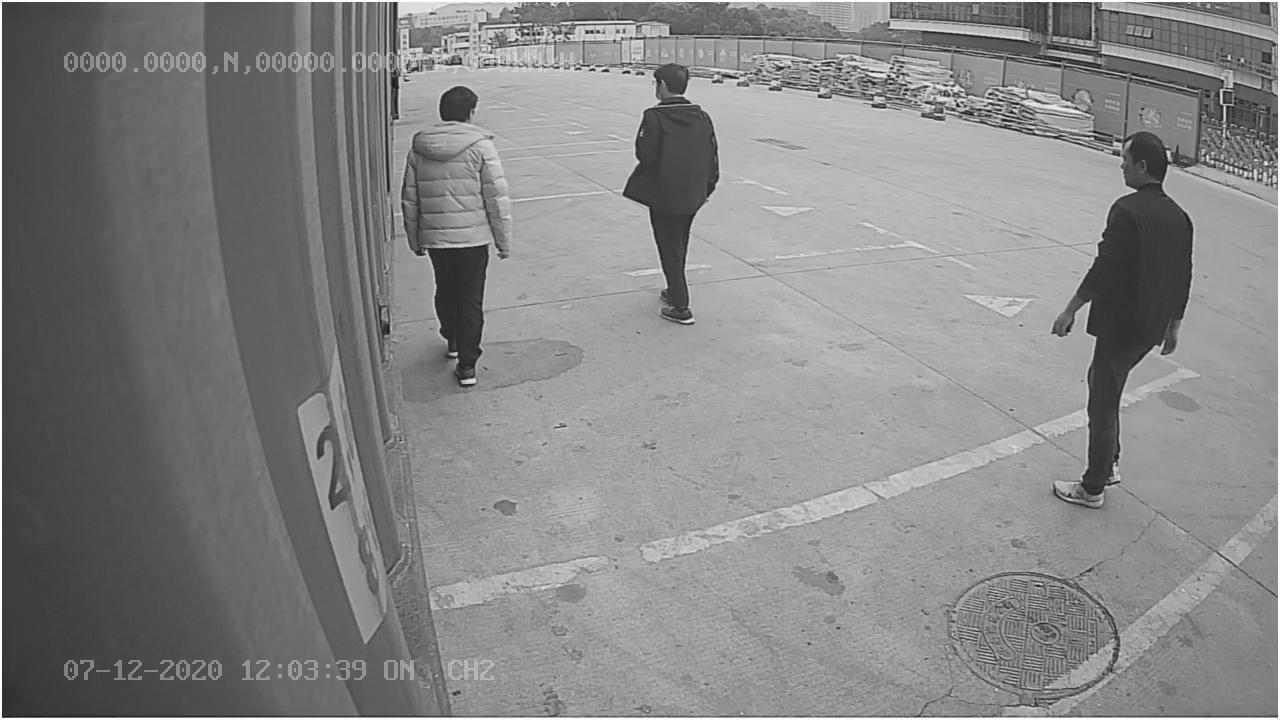person: (1047, 124, 1196, 509), (402, 78, 513, 390), (619, 59, 721, 323)
